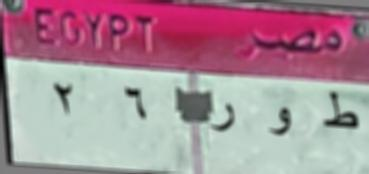2: (48, 78, 78, 123)
6: (121, 83, 150, 126)
Taa: (320, 85, 359, 139)
raa: (210, 99, 240, 138)
waw: (266, 102, 295, 142)
